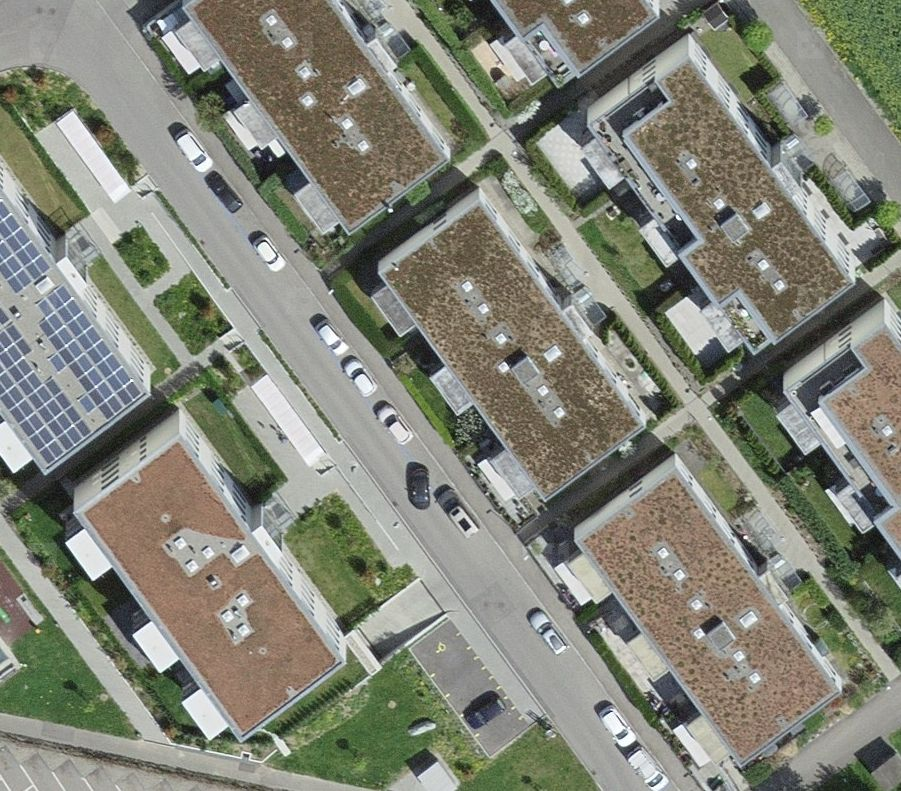solar: (1, 195, 147, 468)
